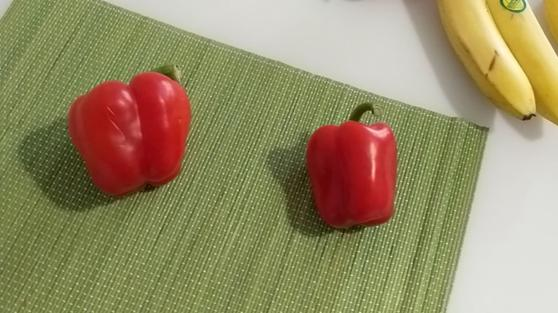banana: (432, 1, 540, 122)
pepper: (67, 65, 192, 197), (304, 99, 400, 235)
